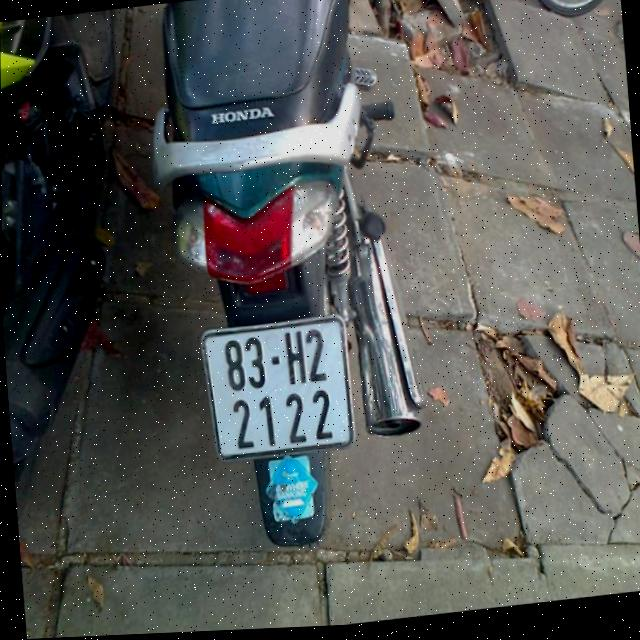motorcycle: (147, 0, 439, 566), (0, 7, 153, 536)
plate: (191, 302, 362, 467)
